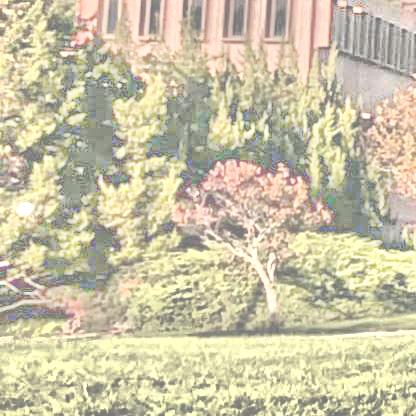golfball: (12, 199, 31, 214)
